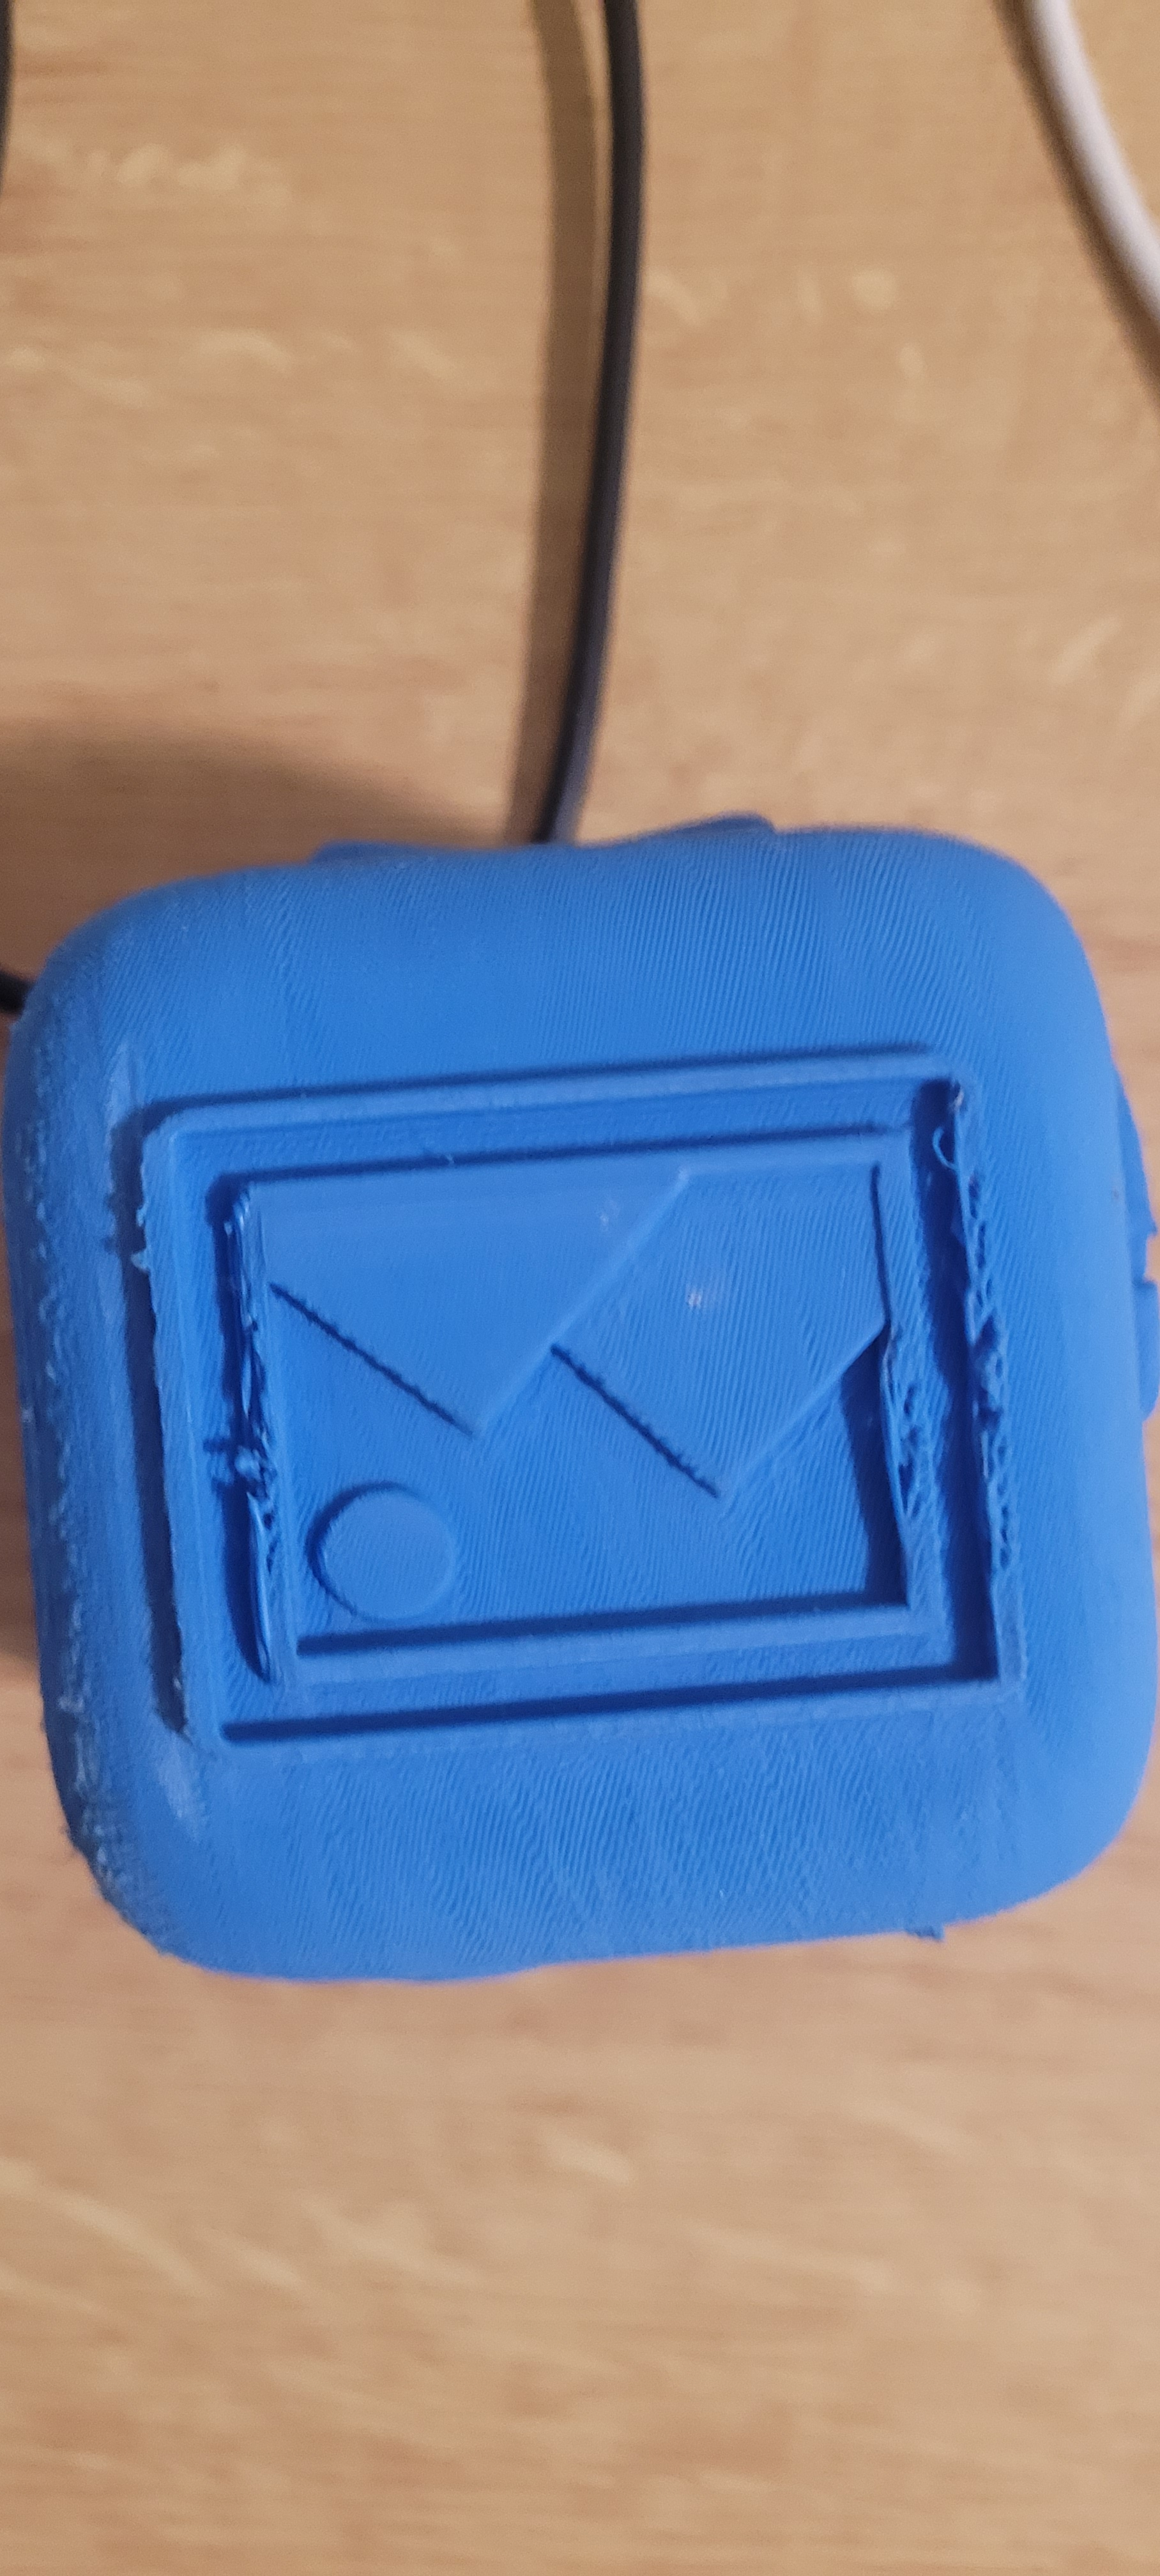Story: (85, 1053, 1079, 1802)
